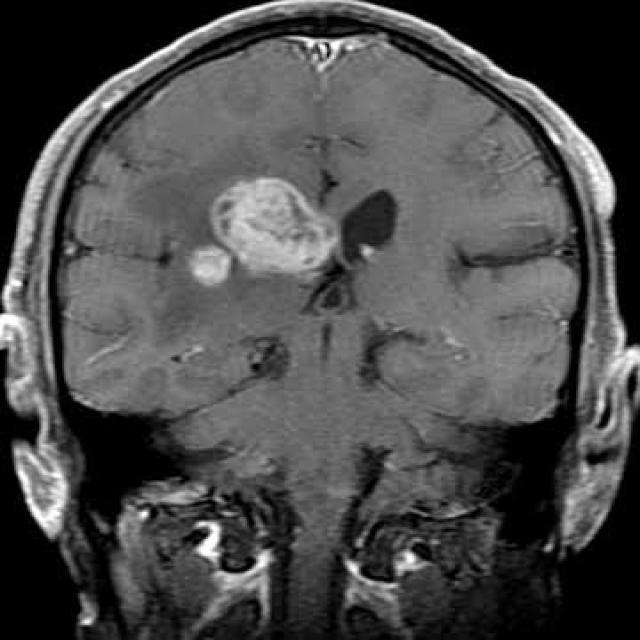glioma: (186, 176, 406, 310)
